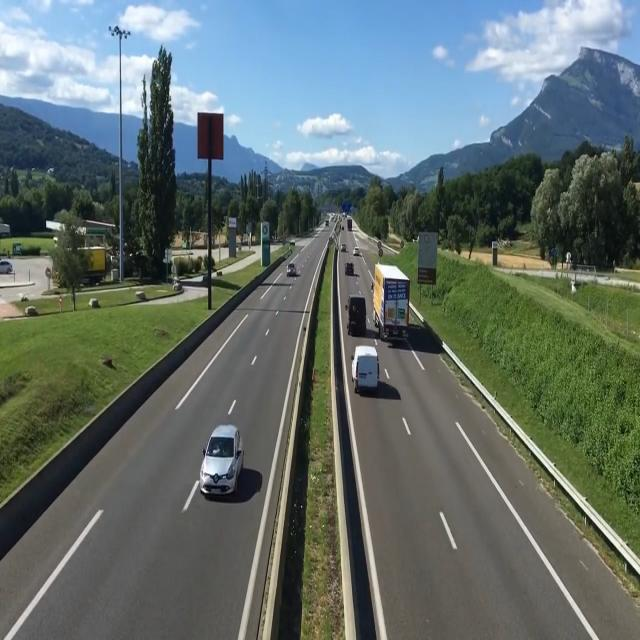car: (202, 421, 244, 501), (354, 343, 381, 398), (348, 291, 368, 337), (342, 256, 356, 276), (285, 259, 297, 281)
truck: (377, 264, 412, 350)
